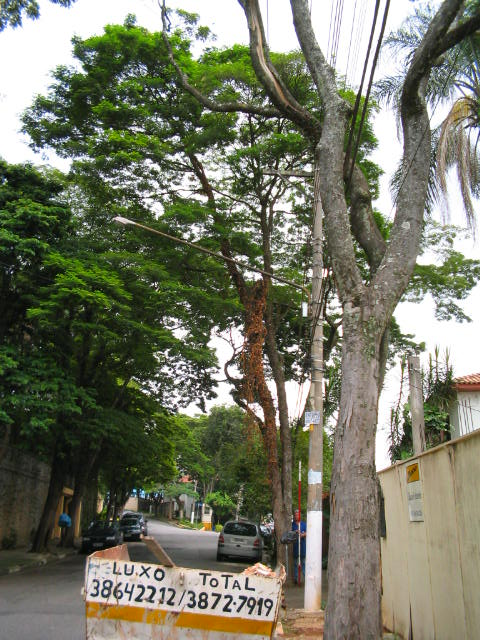crown: (18, 9, 377, 253), (4, 156, 241, 464)
stem: (323, 311, 397, 639), (27, 460, 70, 547), (264, 504, 295, 588)
stick: (290, 458, 306, 587)
tree: (18, 7, 377, 589), (1, 156, 241, 549)
